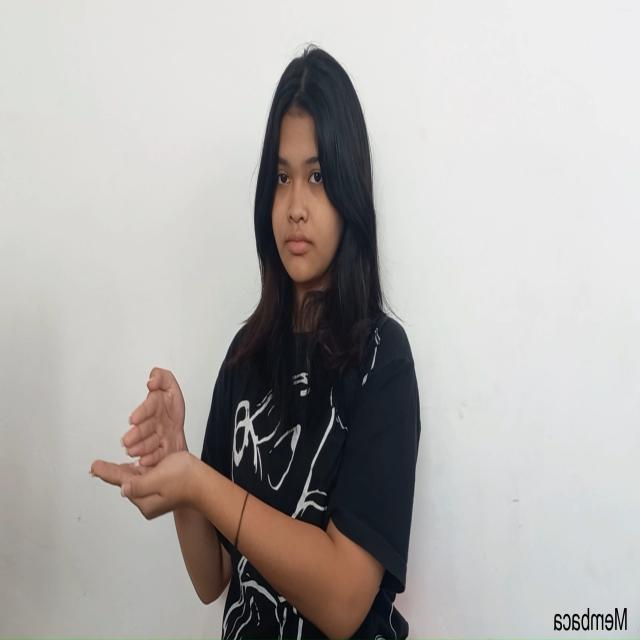Membaca -BISINDO-: (88, 366, 220, 522)
